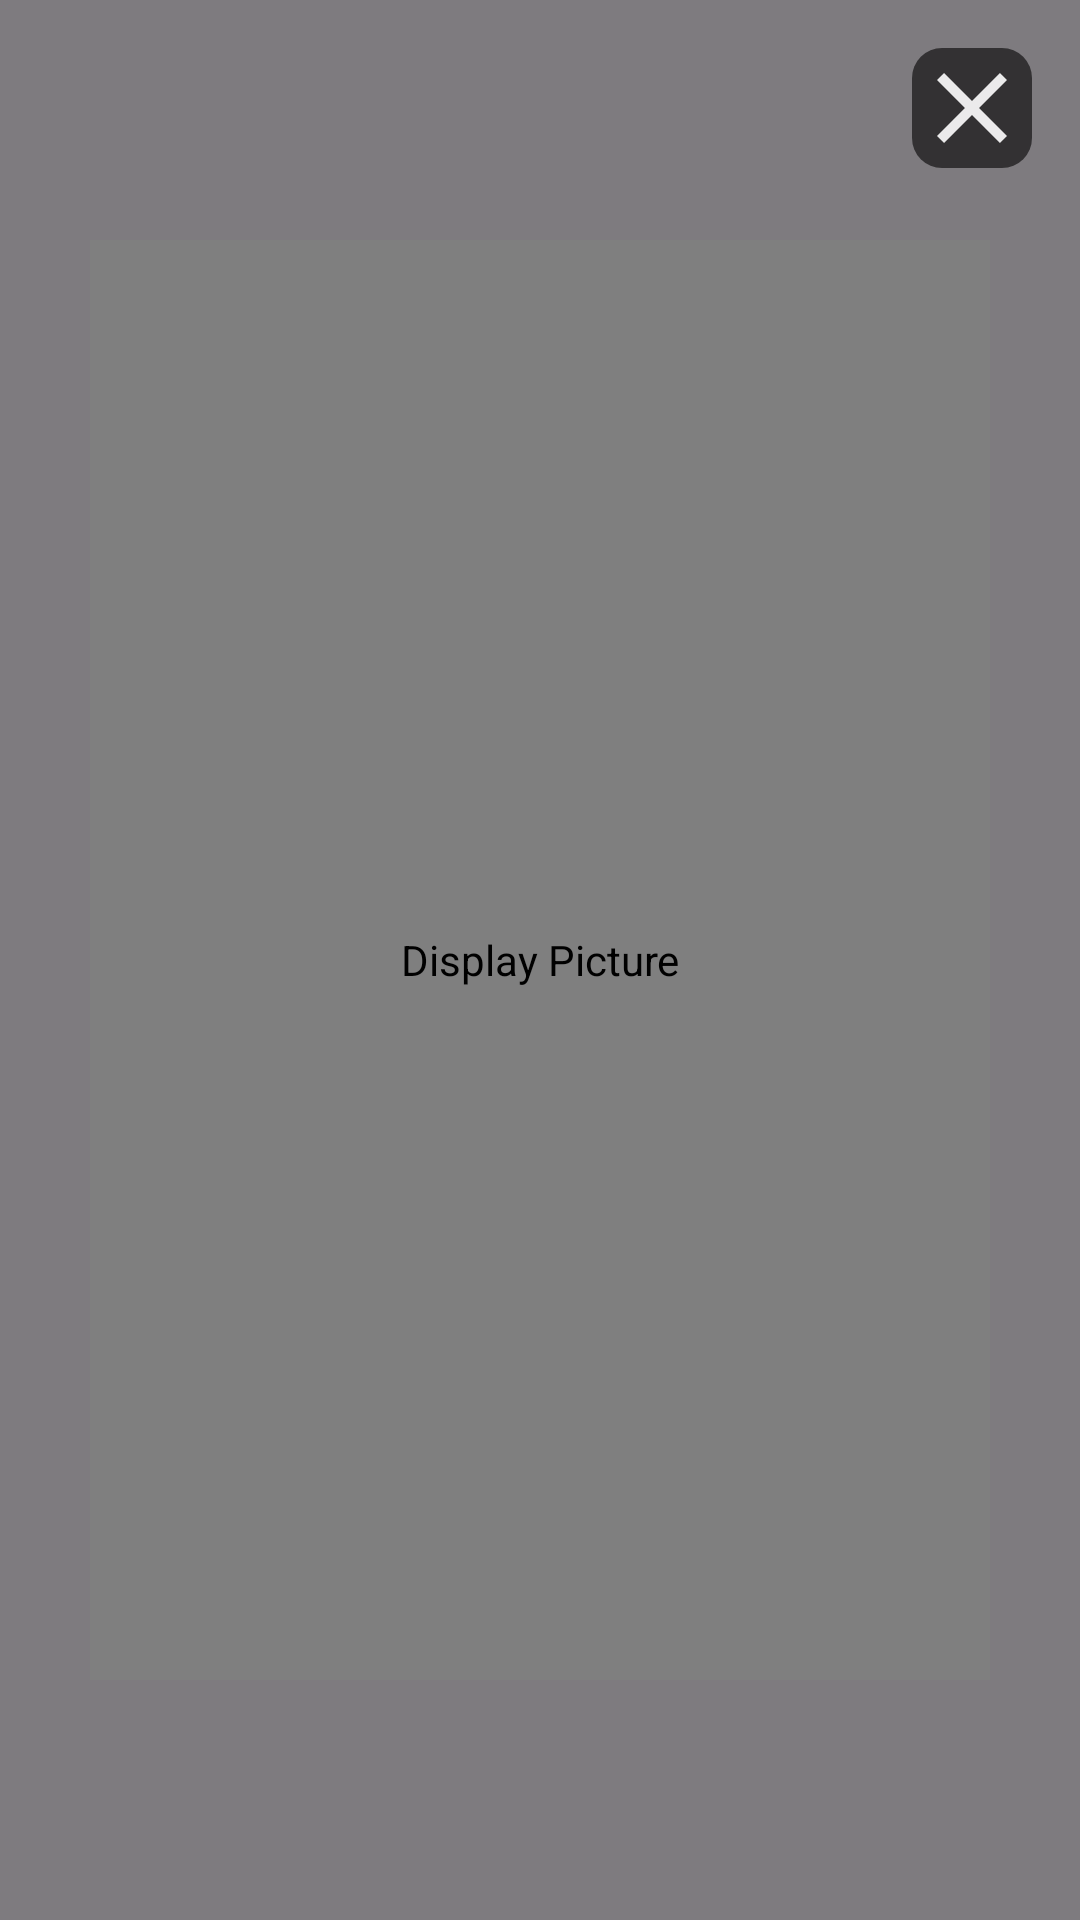

Screen size 1080 x 1920. Icon name, then its center in pixels as (x,y):
close: (972,108)
